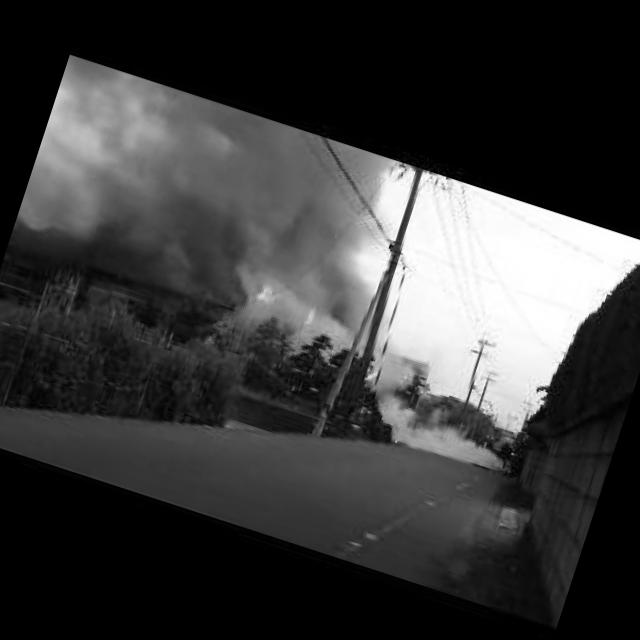fire: (260, 284, 278, 302), (367, 370, 382, 384), (307, 302, 317, 316)
smoke: (16, 52, 410, 330), (372, 400, 510, 480)
